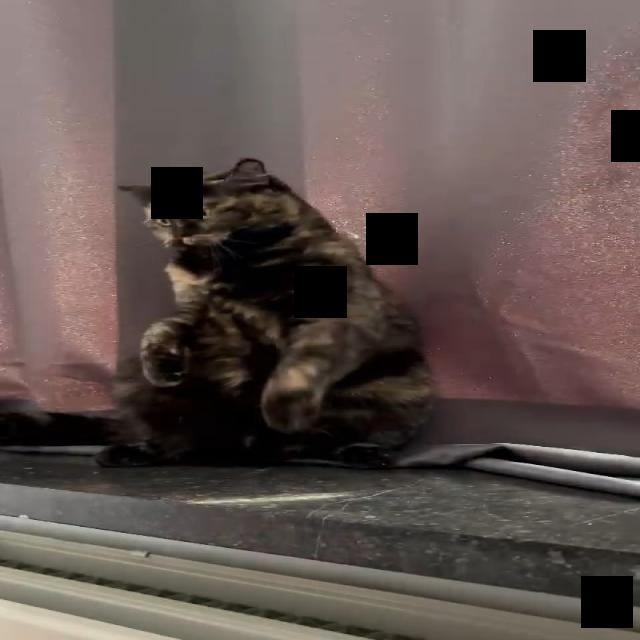authorized: (93, 156, 436, 469)
